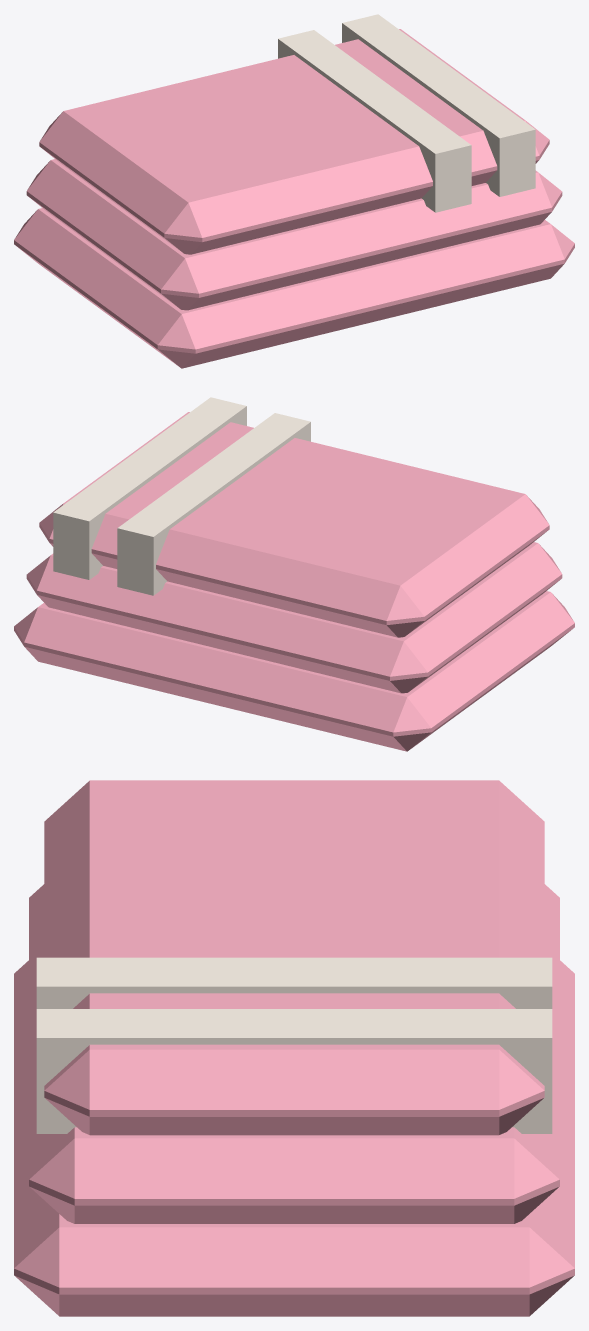
The model's file is CleanACat_Tool_Towel.fbx.
3 renders of one model, top to bottom at view 1: azimuth 30°, elevation 25°; view 2: azimuth 150°, elevation 25°; view 3: azimuth 270°, elevation 25°, orthographic. The views are drawn at different scales.
Visible parts, largest first — view 1: CleanACat_Tool_Towel; view 2: CleanACat_Tool_Towel; view 3: CleanACat_Tool_Towel.
Part boxes in pixels (x1,y1,x2,y2): CleanACat_Tool_Towel: (14, 14, 574, 368); CleanACat_Tool_Towel: (14, 397, 574, 751); CleanACat_Tool_Towel: (14, 780, 574, 1316).
Size of the model in its own units: 1.04 by 0.38 by 0.74.
Materials: 1 (1 with a texture image).
